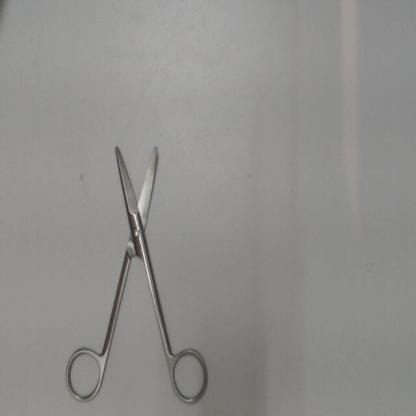Curved Mayo Scissors: (61, 139, 212, 410)
